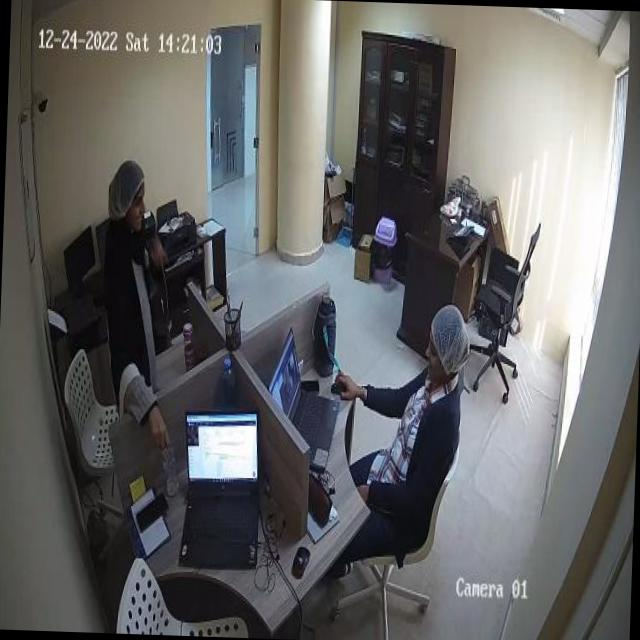hairnet: (432, 305, 473, 373), (108, 156, 142, 214)
